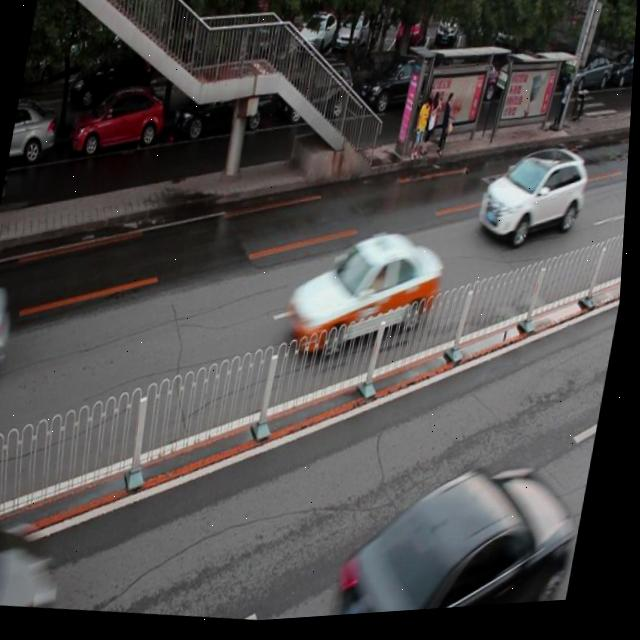car: (335, 450, 592, 621), (281, 224, 450, 374), (474, 144, 594, 260), (168, 68, 277, 149), (67, 82, 169, 161), (0, 512, 73, 613), (352, 51, 444, 127), (275, 61, 357, 134), (9, 98, 60, 169), (0, 277, 21, 396)
